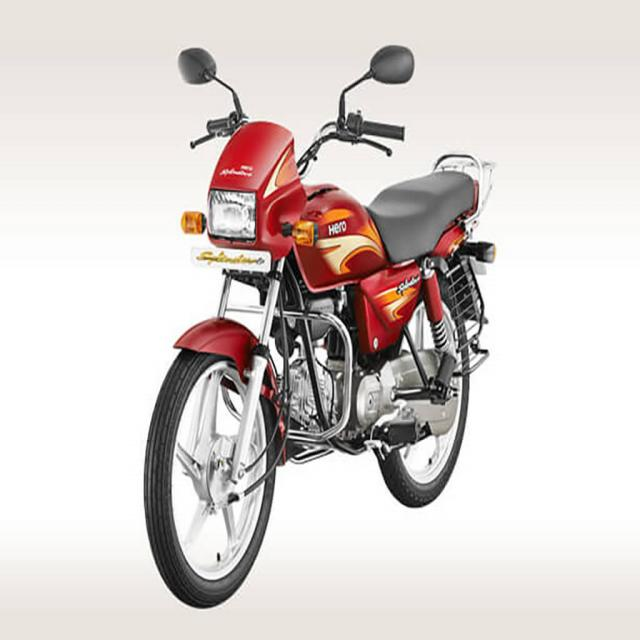Bike: (139, 43, 500, 613)
